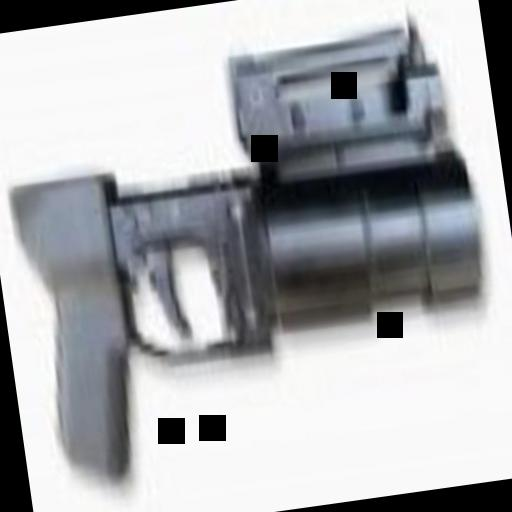Handgun: (0, 22, 498, 494)
